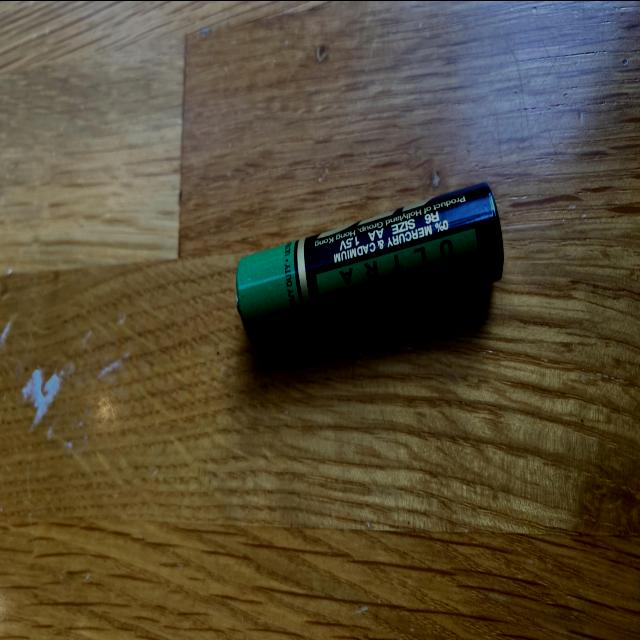AA: (231, 175, 507, 353)
